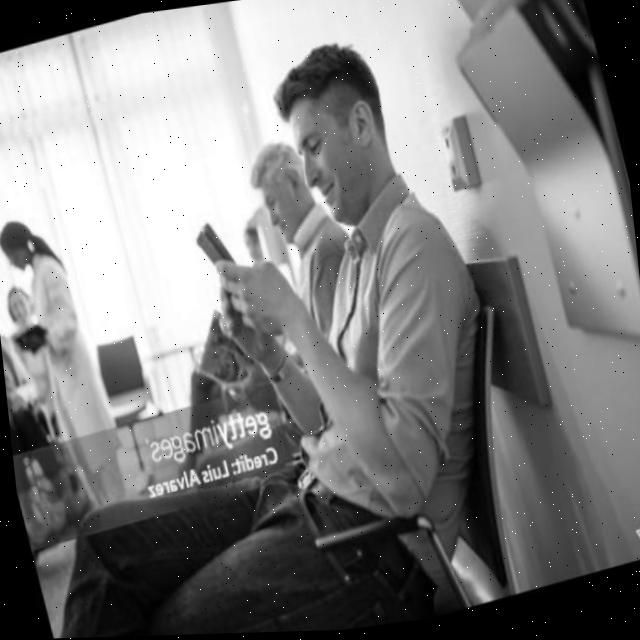phone: (192, 216, 238, 277)
